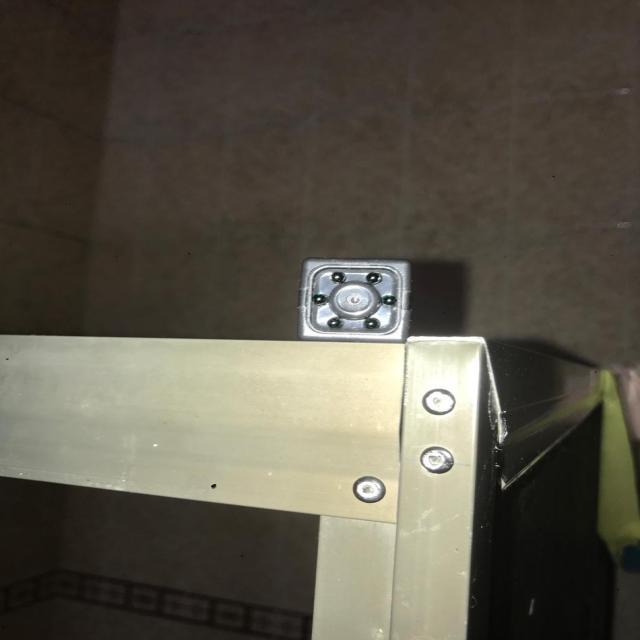hidden camera: (330, 281, 381, 320)
